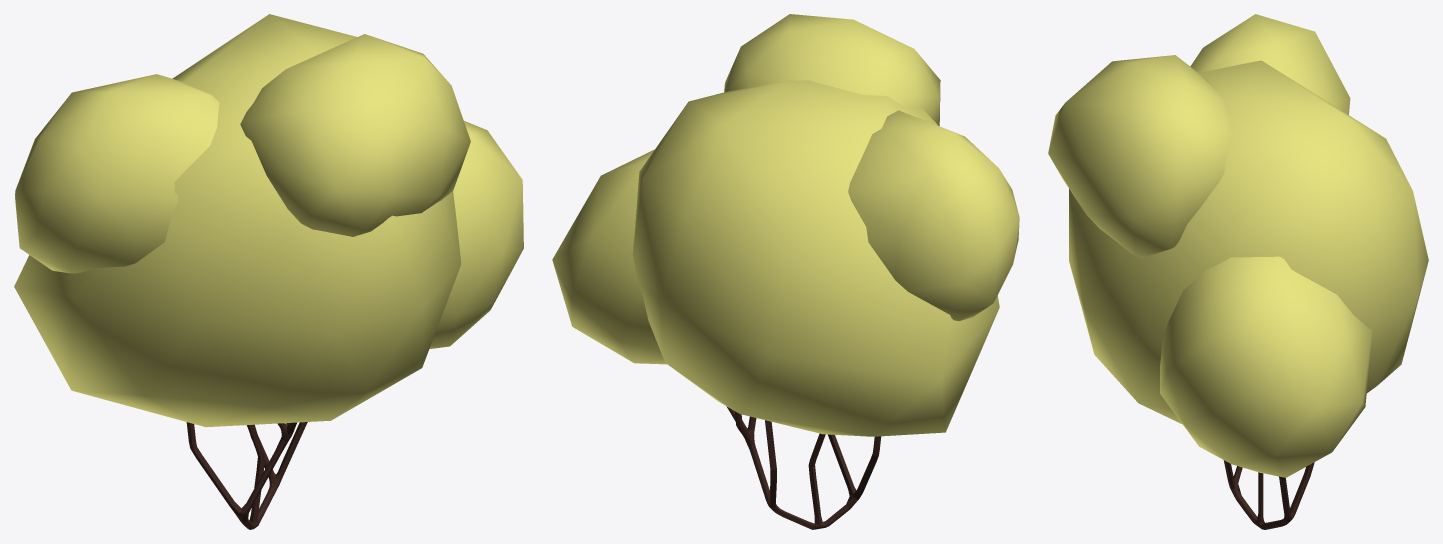
Rendered from tallbush.fbx.
3 views of the same model, side by side, from view 1: azimuth 30°, elevation 25°; view 2: azimuth 150°, elevation 25°; view 3: azimuth 270°, elevation 25° (orthographic). The views are drawn at different scales.
Parts seen in each view (by area): view 1: Icosphere.002; view 2: Icosphere.002; view 3: Icosphere.002.
Part boxes in pixels (x1,y1,x2,y2): Icosphere.002: [14, 14, 523, 529]; Icosphere.002: [552, 14, 1019, 529]; Icosphere.002: [1048, 14, 1428, 529].
Size of the model in its own units: 3.11 by 3.13 by 2.25.
